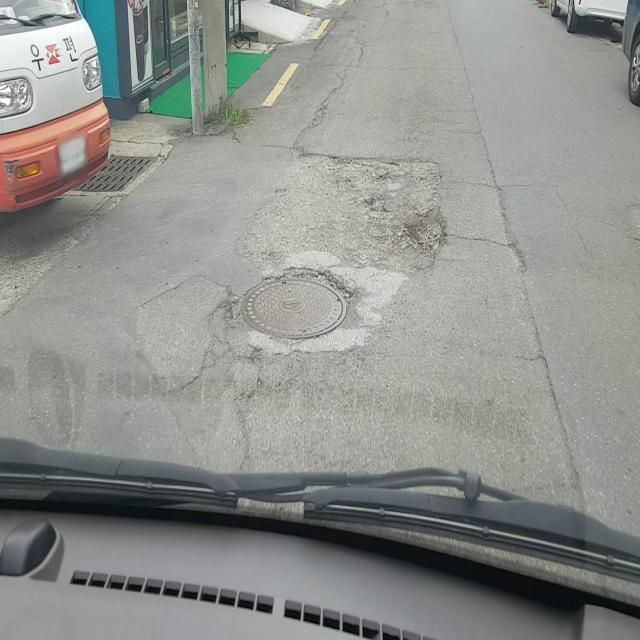pothole: (240, 265, 356, 343)
